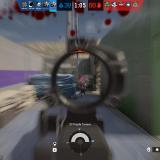Character: (77, 74, 89, 97)
Head: (85, 75, 88, 79)
